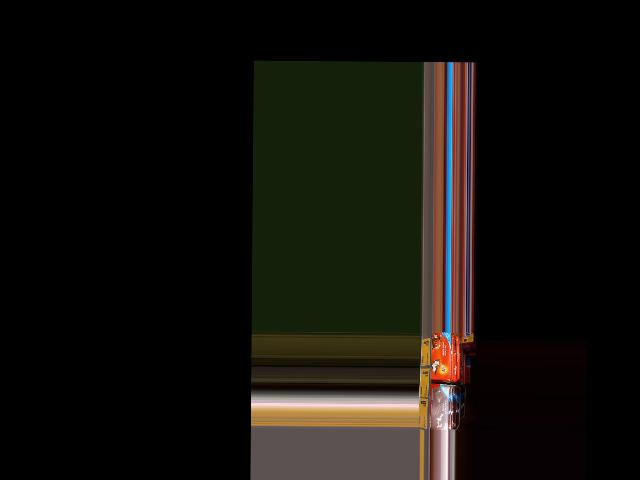chocolate: (425, 388, 452, 431)
